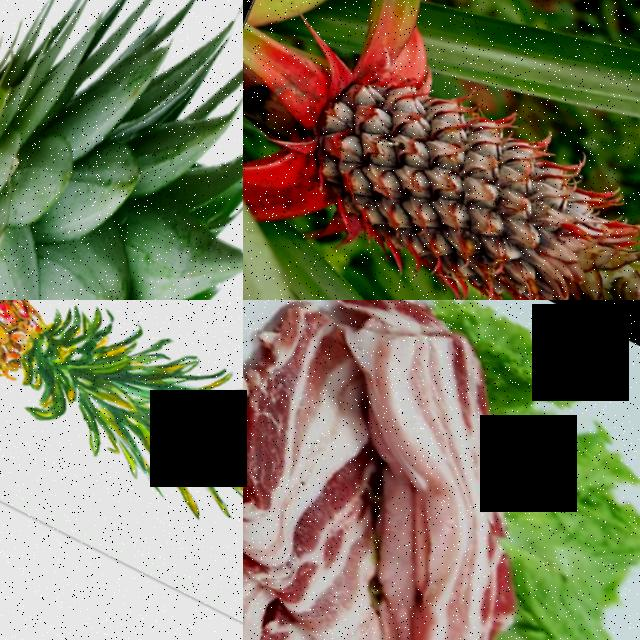pineapple: (279, 36, 640, 300), (0, 0, 155, 300), (0, 300, 145, 446)
pork belly: (302, 300, 539, 502), (243, 460, 413, 640), (331, 582, 532, 640)
